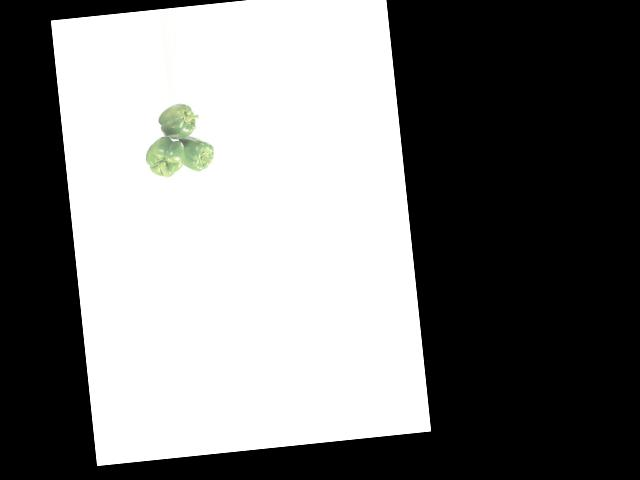bell_pepper: (140, 134, 188, 182)
